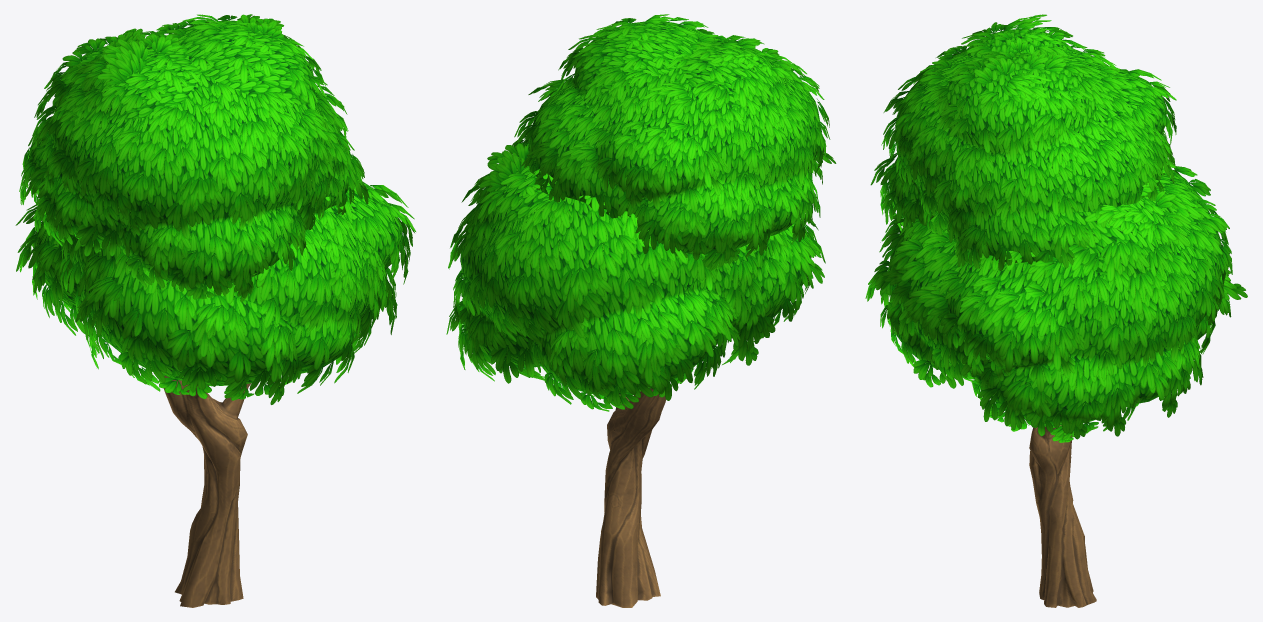
The model's file is Tree.fbx.
3 renders of one model, left to right at view 1: azimuth 30°, elevation 25°; view 2: azimuth 150°, elevation 25°; view 3: azimuth 270°, elevation 25°, orthographic. The views are drawn at different scales.
Parts seen in each view (by area): view 1: Remaped1_green_Clone__019; view 2: Remaped1_green_Clone__019; view 3: Remaped1_green_Clone__019.
Boxes of the visible parts, box(x1,y1,x2,y2) form: Remaped1_green_Clone__019: box(15, 14, 415, 607); Remaped1_green_Clone__019: box(446, 14, 836, 607); Remaped1_green_Clone__019: box(865, 14, 1247, 607).
Size of the model in its own units: 472 by 747 by 483.
Materials: 3 (3 with a texture image).
